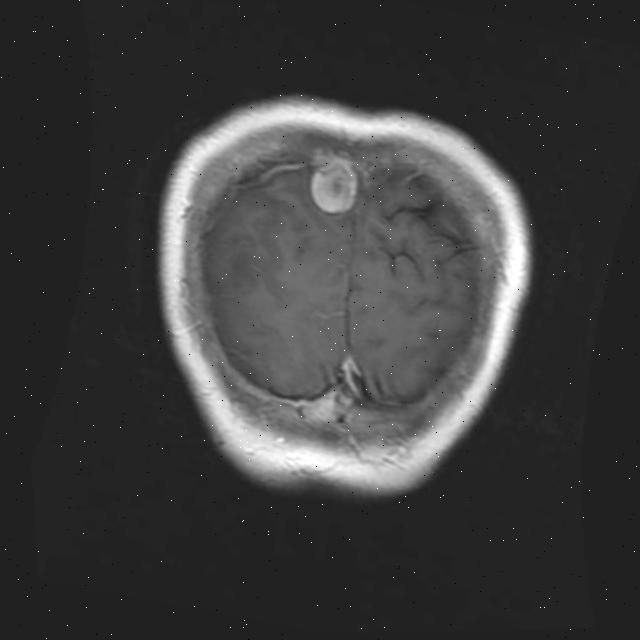Glioma: (303, 150, 366, 218)
